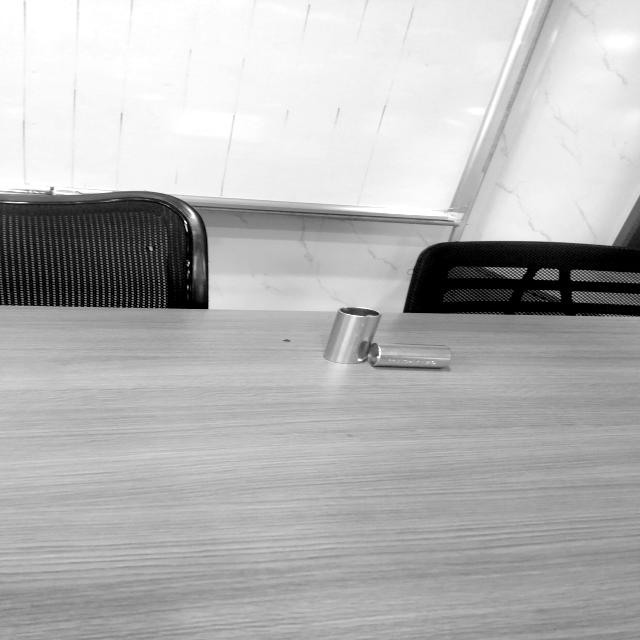Co_Lon: (322, 299, 382, 372)
Co_Nho: (367, 343, 451, 370)
